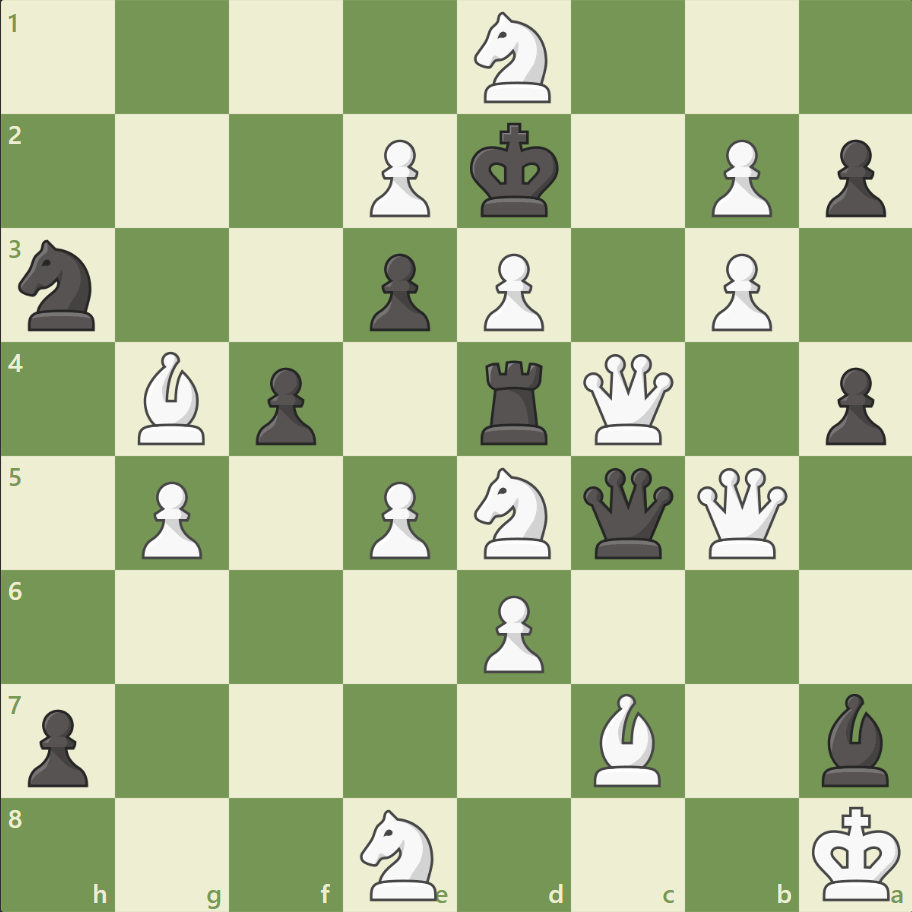B: (585, 687, 669, 790), (131, 347, 215, 449)
K: (806, 798, 906, 906)
N: (351, 802, 449, 904), (465, 461, 562, 564), (465, 7, 562, 110)
P: (474, 586, 549, 677), (133, 473, 208, 564), (701, 246, 776, 337), (474, 246, 549, 337), (701, 132, 776, 223), (361, 473, 435, 564), (361, 132, 435, 223)
Q: (578, 349, 677, 449), (691, 463, 790, 562)
b: (812, 687, 896, 790)
k: (465, 117, 565, 225)
n: (11, 234, 108, 337)
p: (20, 700, 95, 791), (247, 359, 322, 450), (815, 359, 889, 450), (361, 246, 435, 337), (815, 132, 889, 223)
q: (578, 463, 677, 562)
r: (473, 352, 556, 449)
